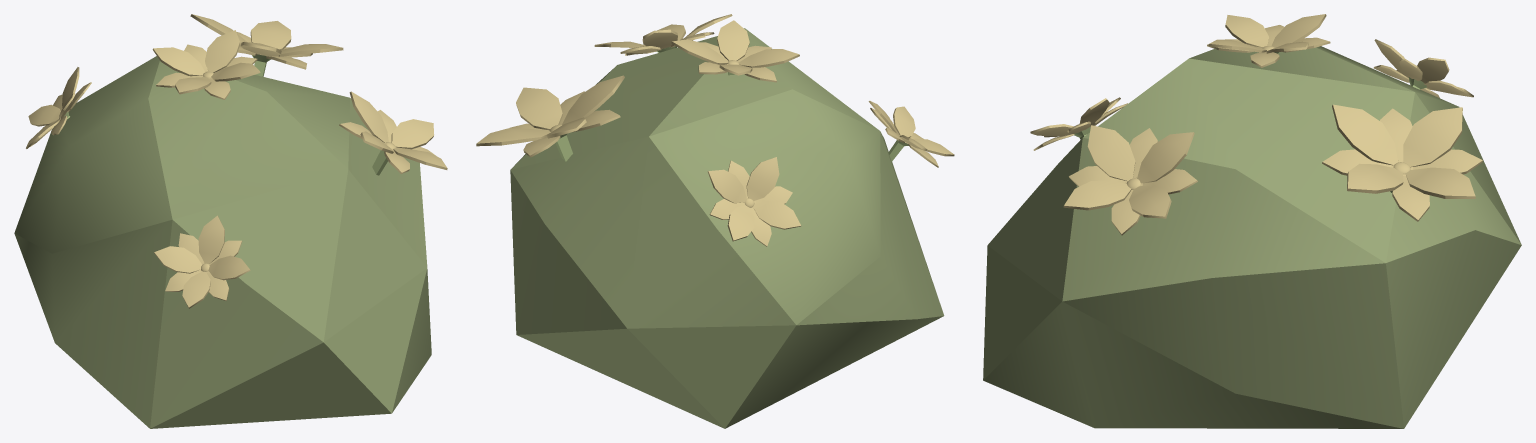
File: buisson_fjaune.fbx
3 views of the same model, side by side, from view 1: azimuth 30°, elevation 25°; view 2: azimuth 150°, elevation 25°; view 3: azimuth 270°, elevation 25° (orthographic). The views are drawn at different scales.
Parts seen in each view (by area): view 1: pasted__pCube63; view 2: pasted__pCube63; view 3: pasted__pCube63.
Boxes of the visible parts, x1=… form: pasted__pCube63: x1=14, y1=14, x2=447, y2=428; pasted__pCube63: x1=476, y1=14, x2=954, y2=428; pasted__pCube63: x1=983, y1=14, x2=1521, y2=428.
Size of the model in its own units: 0.9108 by 0.7423 by 1.05.
